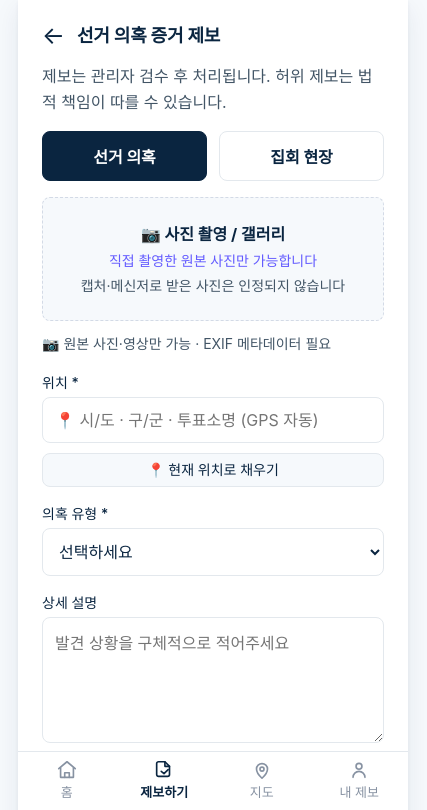
Test case: ReportForm 위치 입력(단일 입력칸) › 제출 시 시도(파싱)와 위치 전문(sigungu)을 본문에 전송한다
Type "관찰한 정황" into the text box labelled "상세 설명" at (213, 680), box [42,617,384,743]
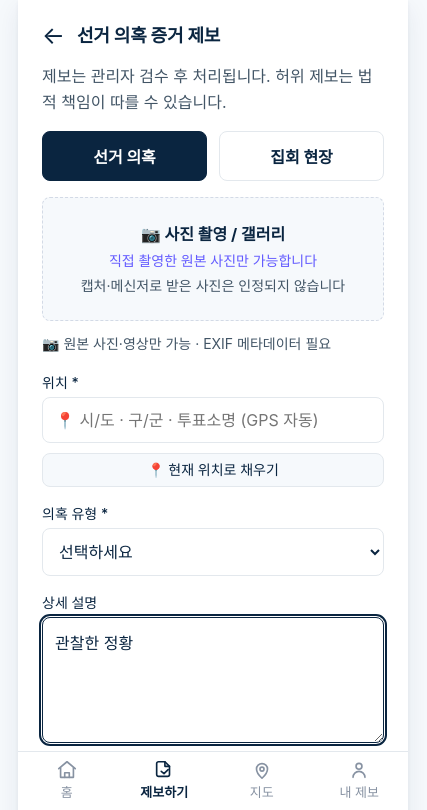
Type "서울특별시 강남구 제3투표소" into the field labelled "위치" at (213, 420), box [42,397,384,443]
(page scrolled)
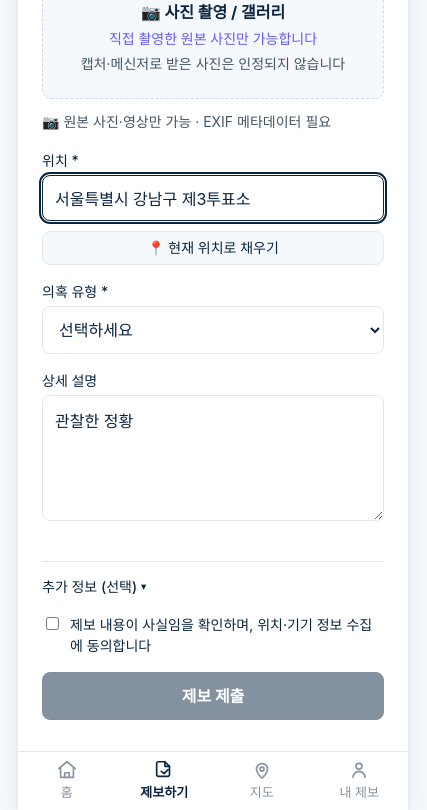
Click the checkbox labelled "제보 내용이 사실임을 확인하며, 위치·기기 정보 수집에 동의합니다" at (52, 624), box [46,617,59,630]
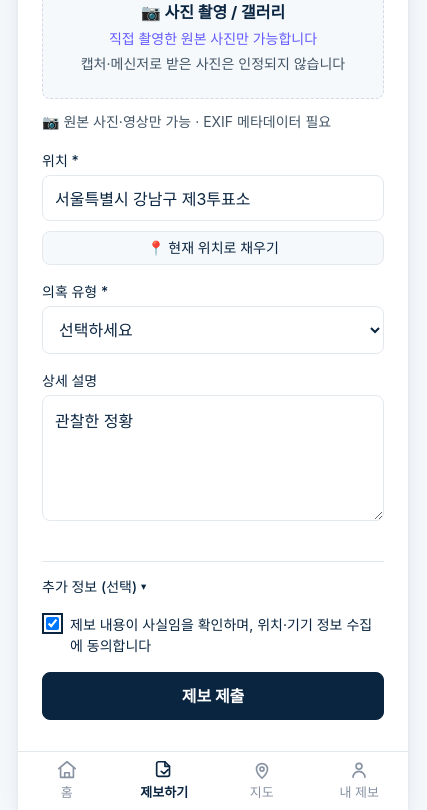
Click the button "제보 제출" at (213, 696), box [42,672,384,720]
(page scrolled)
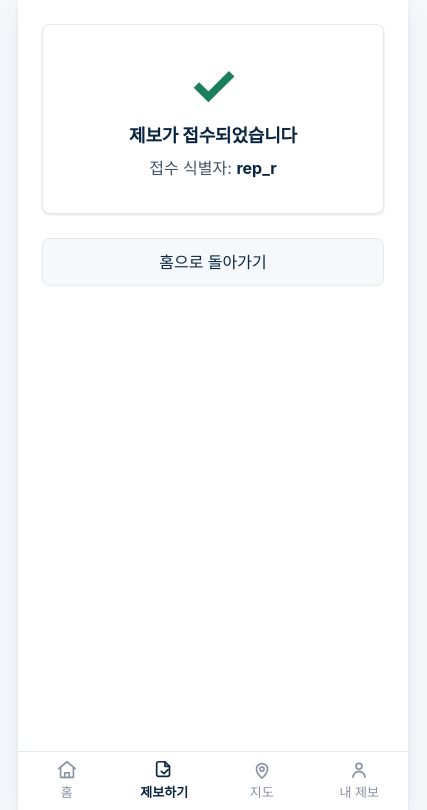
Result: the heading "제보가 접수되었습니다" is shown at [129,125,297,146]
